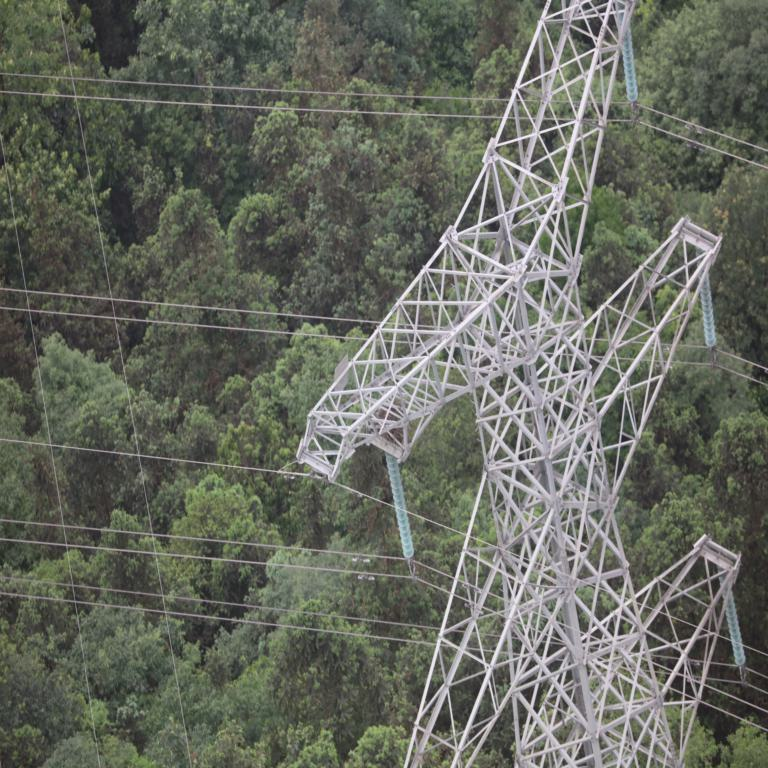nest: (375, 409, 411, 448)
